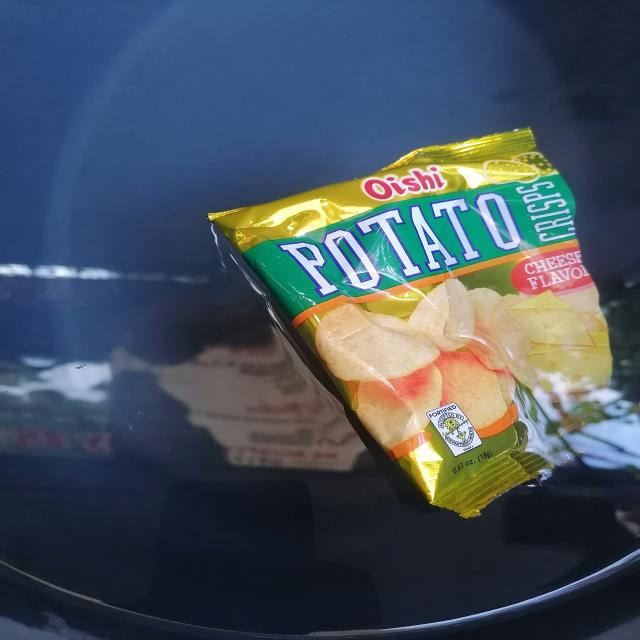Plastic Wrapper: (190, 104, 640, 533)
